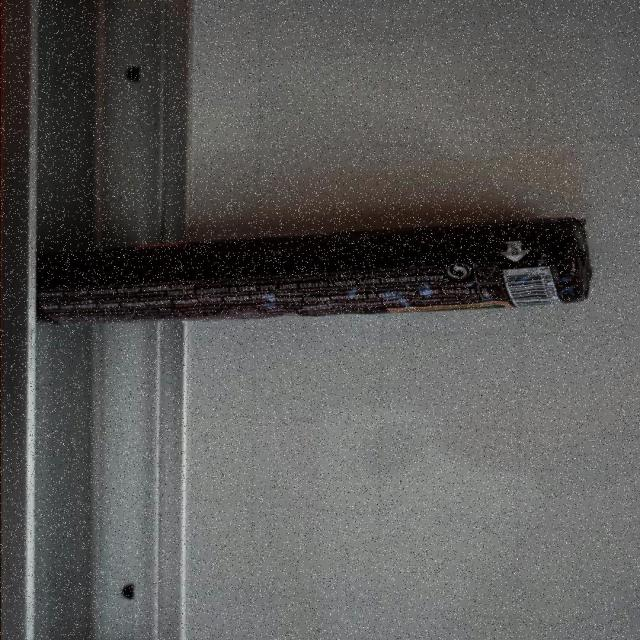Cookies: (33, 216, 591, 324)
